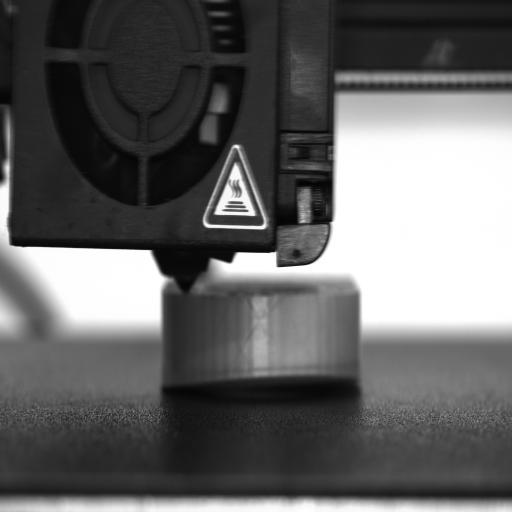warp: (161, 366, 356, 393)
